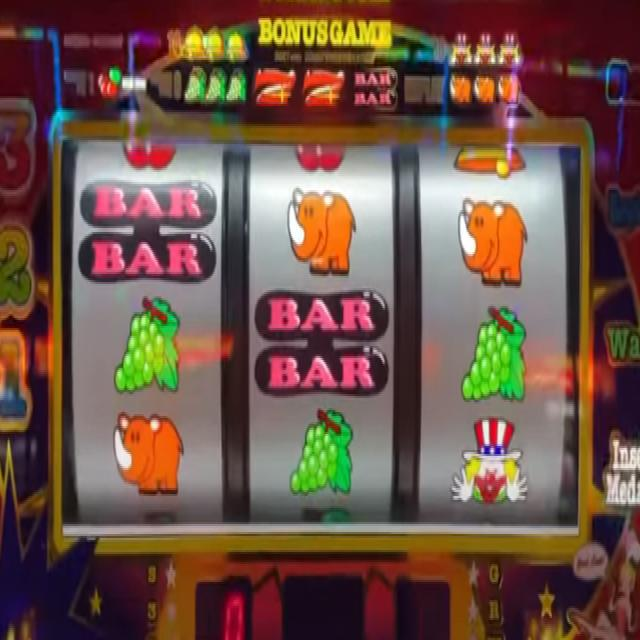bar: (253, 287, 392, 401), (79, 181, 218, 283), (351, 67, 400, 111)
bell: (180, 24, 206, 60), (226, 26, 248, 66), (202, 23, 222, 64)
cherry: (121, 136, 177, 169), (293, 139, 347, 173), (95, 64, 124, 100)
clown: (452, 412, 529, 510), (447, 28, 476, 74), (473, 25, 498, 73), (498, 30, 524, 68)
display: (58, 139, 580, 535)
elephant: (457, 188, 528, 288), (288, 180, 357, 276), (113, 411, 185, 497), (472, 72, 498, 112), (498, 72, 521, 110), (448, 76, 473, 110)
grape: (114, 289, 178, 400), (460, 303, 530, 404), (289, 406, 354, 498), (181, 66, 207, 105), (225, 70, 247, 108), (205, 64, 225, 105)
z: (300, 67, 344, 114), (252, 70, 296, 110)
